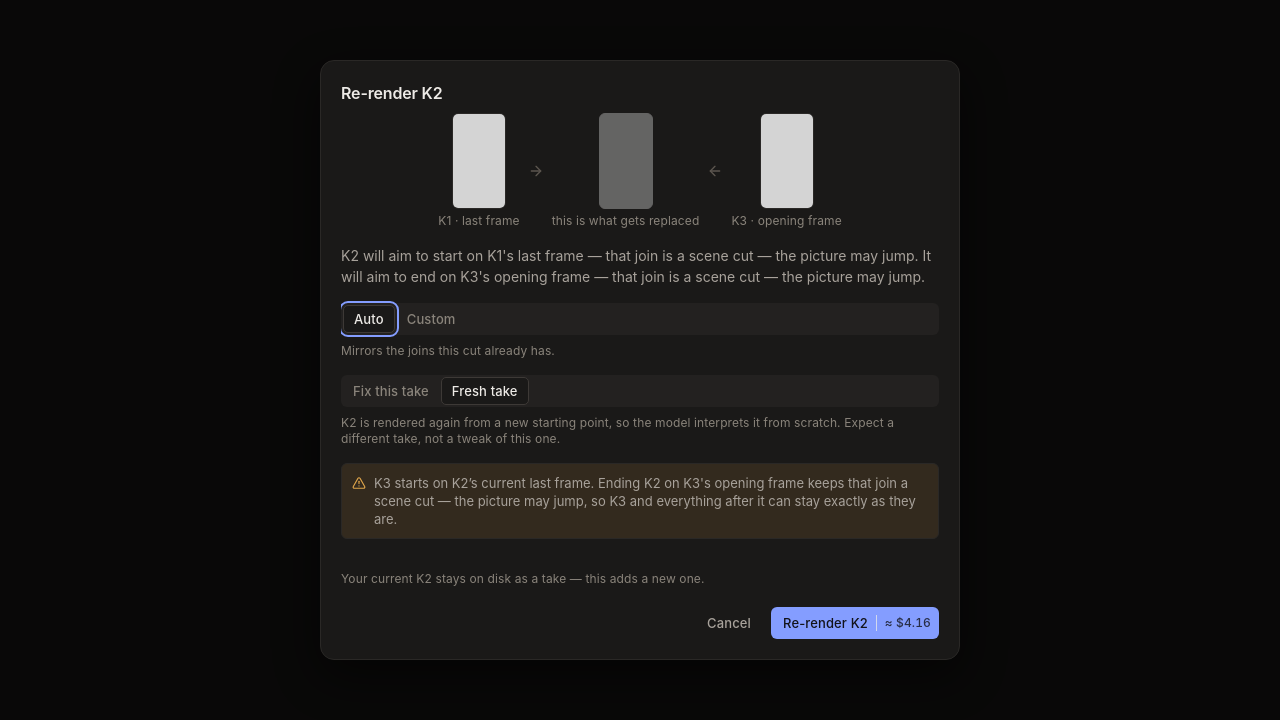
Test: SegmentRerenderDialog — fix this take vs fresh take › switching mode re-prices nothing — the starting point is not a price
Expected: the text named "estimated cost $4.16" is shown, [876,615,931,631]
Click the radio button labelled "Fix this take": [391, 391] box [343,377,439,405]
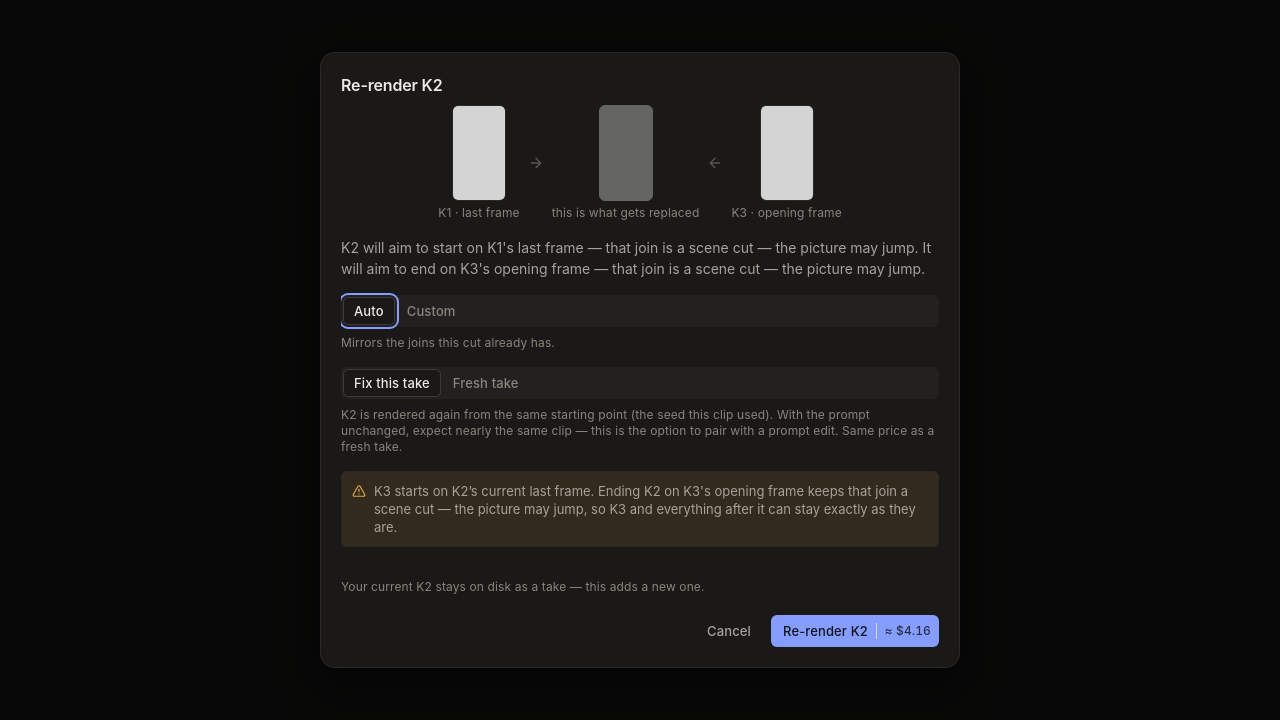
Click the radio button labelled "Fresh take": [486, 383] box [443,369,529,397]
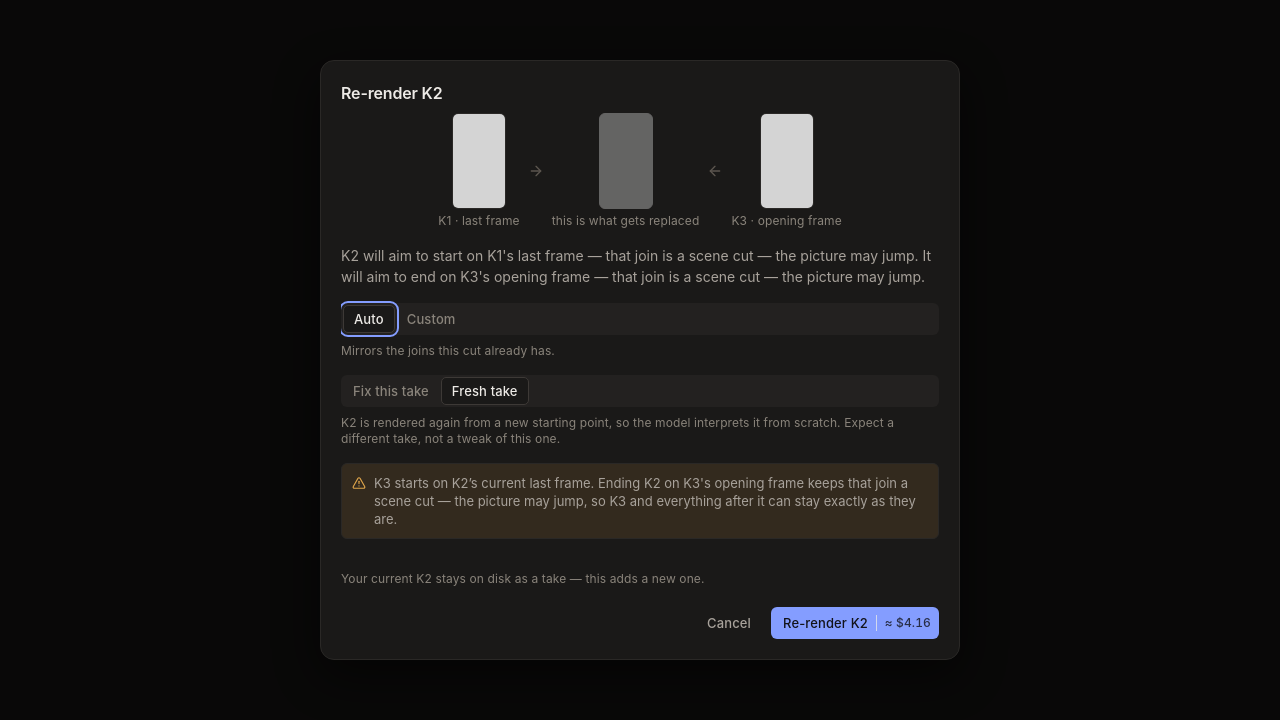
Now the text with test id "regen-mode-sentence" shows "new starting point", box [341,415,894,446]
